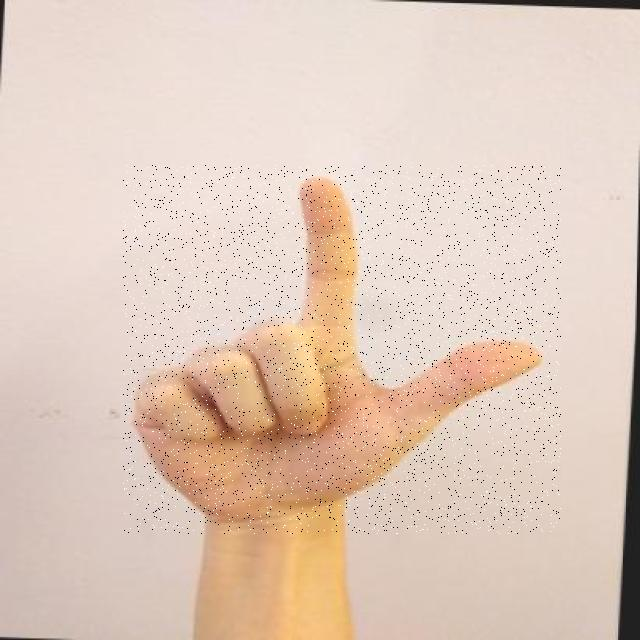L: (123, 165, 561, 534)
